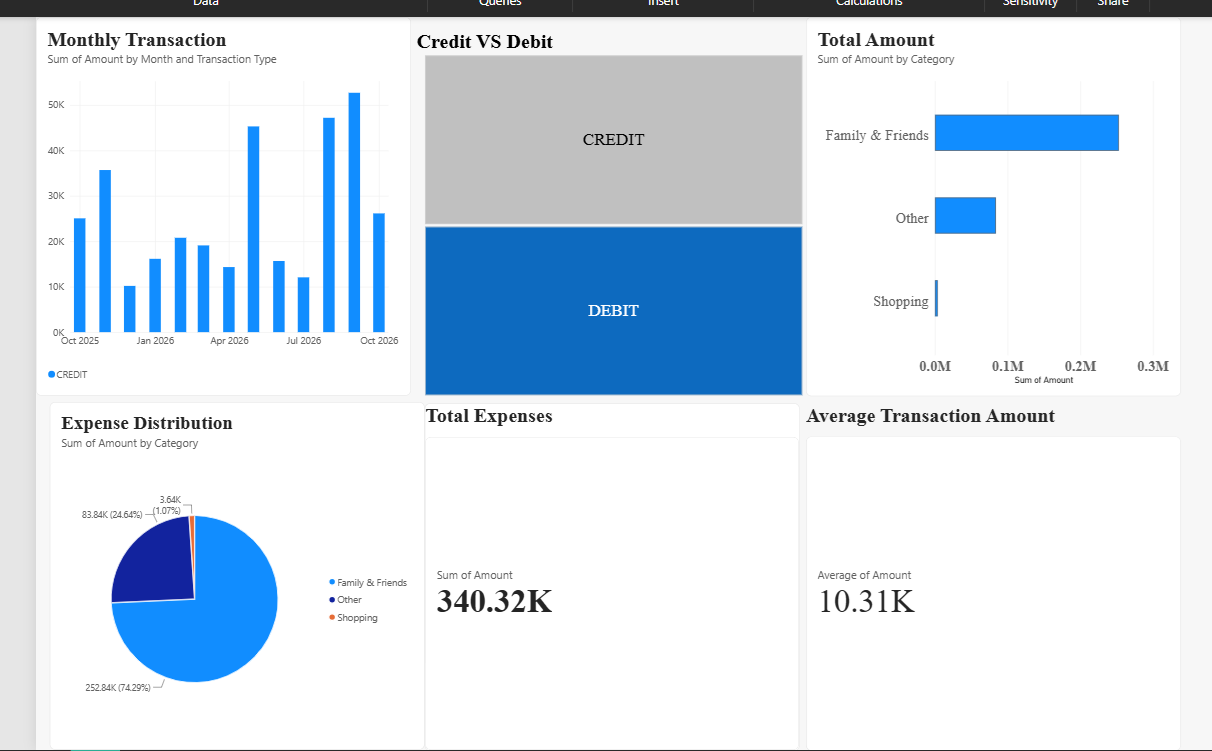

The dashboard page shown, as its layout file describes it:
{"tool":"powerbi","page":{"name":"Page 1","canvas":[1920,1080],"ordinal":0},"visuals":[{"type":"clusteredColumnChart","title":"Monthly Transaction","fields":{"Category":["finance_summary.Month"],"Series":["finance_summary.Transaction Type"],"Y":["Sum(finance_summary.Amount)"]},"box":[0,0,551.6,557.8],"z":0},{"type":"pieChart","title":"Expense Distribution","fields":{"Category":["finance_summary.Category"],"Y":["Sum(finance_summary.Amount)"]},"box":[20,567.5,552,512],"z":1000},{"type":"slicer","fields":{"Values":["finance_summary.Transaction Type"]},"box":[530,0,595,540],"z":1001},{"type":"cardVisual","title":"Total Expenses","fields":{"Data":["Sum(finance_summary.Amount)"]},"box":[572,568,552,512],"z":1002},{"type":"clusteredBarChart","title":"Total Amount","fields":{"Category":["finance_summary.Category"],"Y":["Sum(finance_summary.Amount)"]},"box":[1134,0,552,558],"z":1003},{"type":"cardVisual","title":"Average Transaction Amount","fields":{"Data":["Avg(finance_summary.Amount)"]},"box":[1134,568,552,512],"z":1004}]}

Visuals, with their boxes on the page's 1920x1080 design canvas (x1, y1, x2, y2). These are canvas units, not pixel positions in the 1212x751 screenshot, which may show the page scaled, cropped or inside an application window:
"Monthly Transaction" clusteredColumnChart: select_region(0, 0, 552, 558)
"Expense Distribution" pieChart: select_region(20, 568, 572, 1080)
slicer - finance_summary.Transaction Type: select_region(530, 0, 1125, 540)
"Total Expenses" cardVisual: select_region(572, 568, 1124, 1080)
"Total Amount" clusteredBarChart: select_region(1134, 0, 1686, 558)
"Average Transaction Amount" cardVisual: select_region(1134, 568, 1686, 1080)
